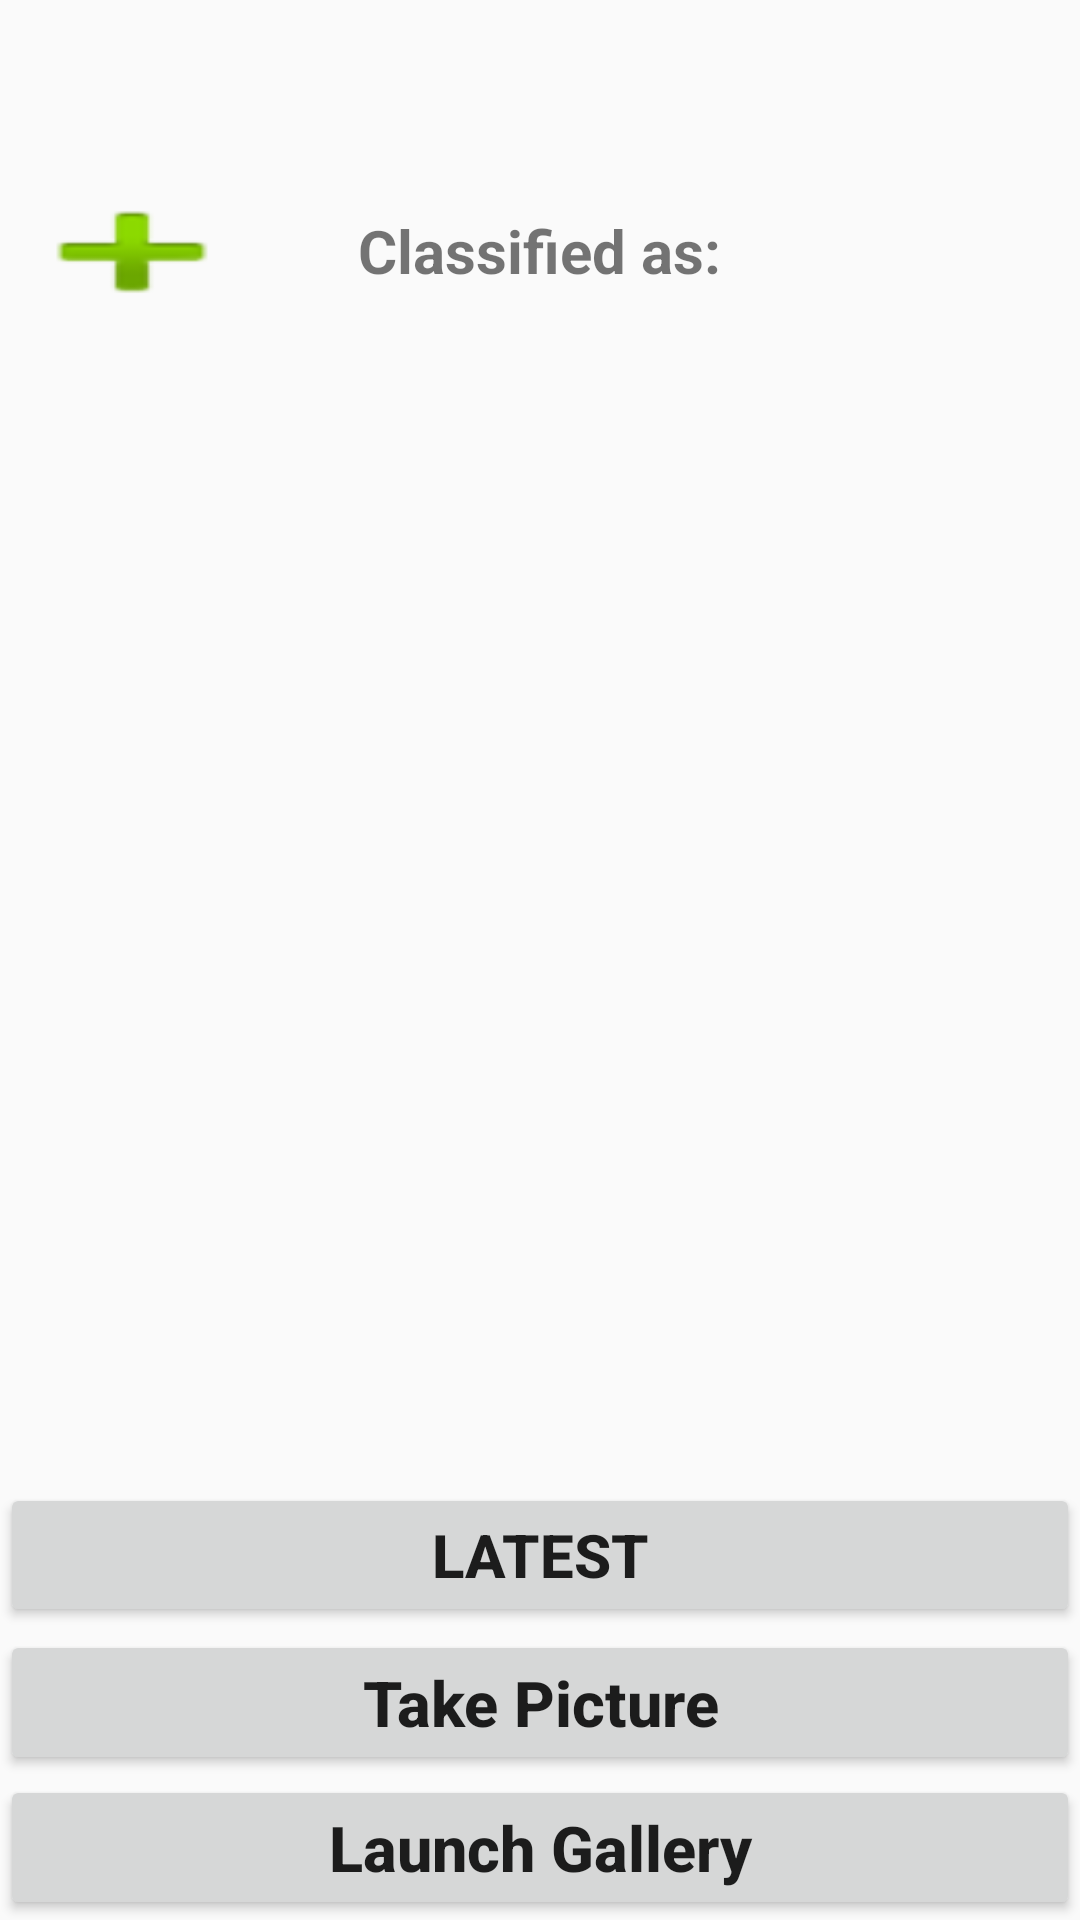

Icon bounding boxes for this 1080*1920 phone screenshot, format [left=x1, top=y1, right=x2, bottom=y2]:
add: [left=57, top=211, right=207, bottom=293]
